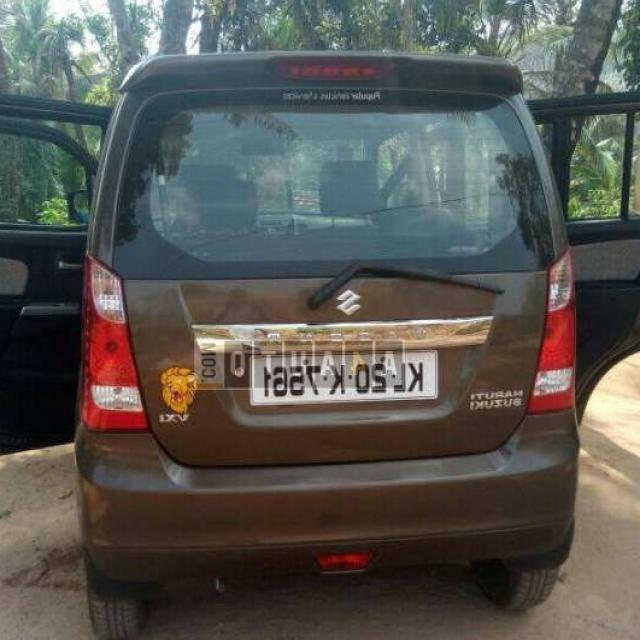number-plate: (226, 338, 446, 412)
